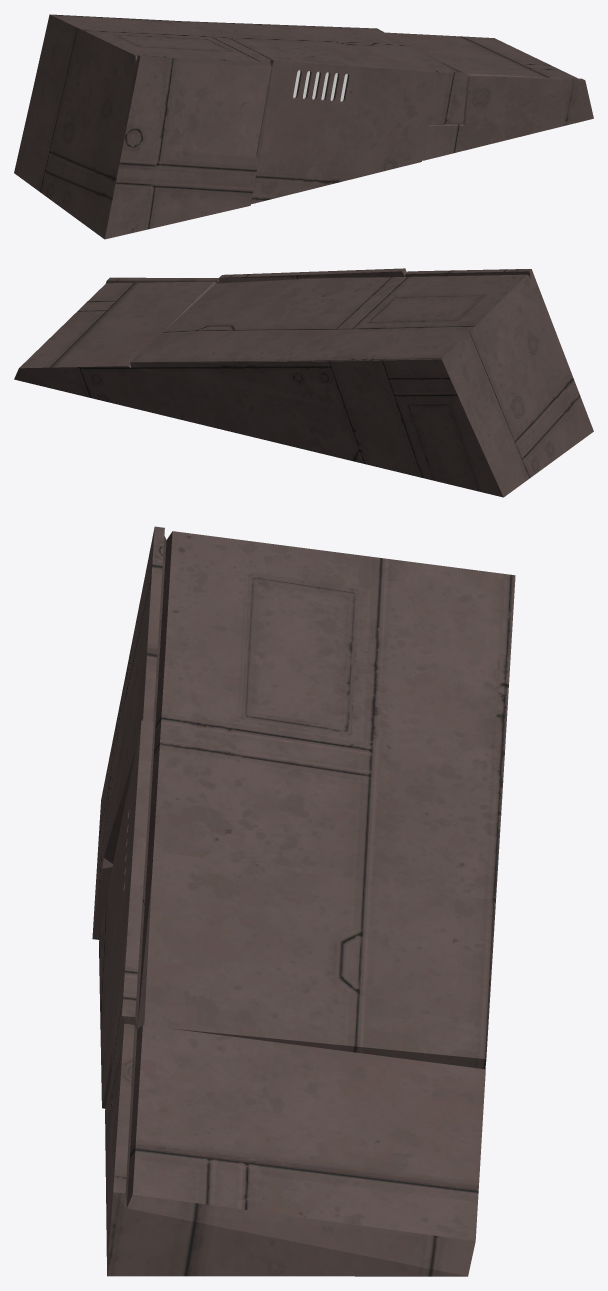
File: MachinePart06.fbx
3 views of the same model, one above another, from view 1: azimuth 30°, elevation 25°; view 2: azimuth 150°, elevation 25°; view 3: azimuth 270°, elevation 25° (orthographic). The views are drawn at different scales.
Visible parts, largest first — view 1: SM_ENV_STRUCT_ScrapYard_MachinePart_13.mo; view 2: SM_ENV_STRUCT_ScrapYard_MachinePart_13.mo; view 3: SM_ENV_STRUCT_ScrapYard_MachinePart_13.mo.
Part boxes in pixels (left/top/right/bottom): SM_ENV_STRUCT_ScrapYard_MachinePart_13.mo: left=14, top=14, right=593, bottom=239; SM_ENV_STRUCT_ScrapYard_MachinePart_13.mo: left=14, top=268, right=593, bottom=497; SM_ENV_STRUCT_ScrapYard_MachinePart_13.mo: left=92, top=526, right=515, bottom=1276.
Size of the model in its own units: 2228 by 700 by 836.
Materials: 2 (1 with a texture image).
